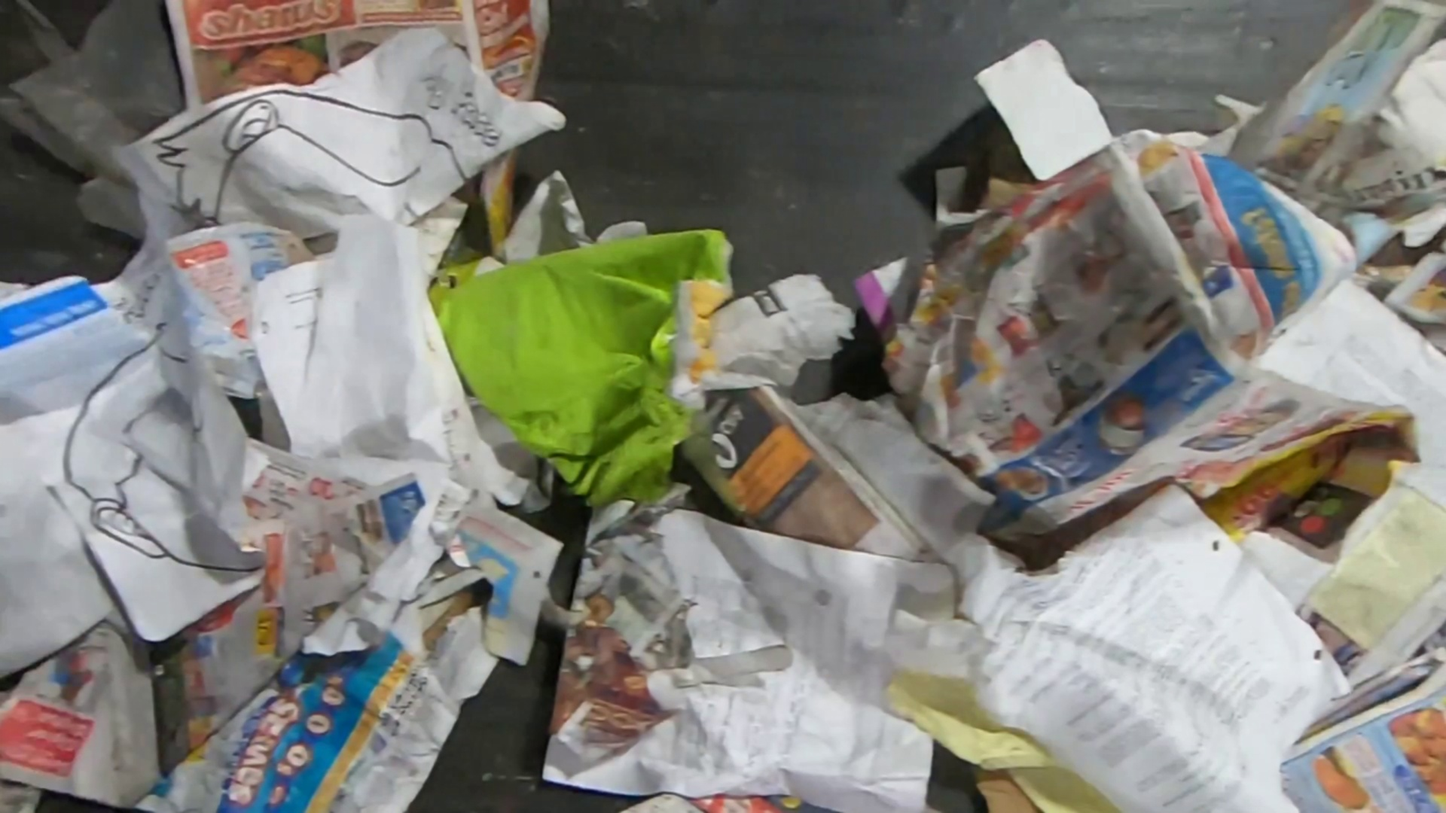cardboard: (437, 226, 734, 513), (427, 232, 506, 318), (972, 765, 1042, 813)
plastic: (0, 0, 188, 246)
